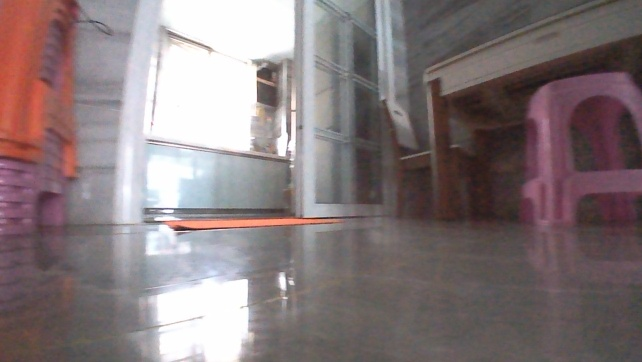blanket: (164, 216, 346, 233)
cupboard: (140, 134, 293, 215)
dining_table: (380, 0, 641, 232), (72, 4, 116, 37)
